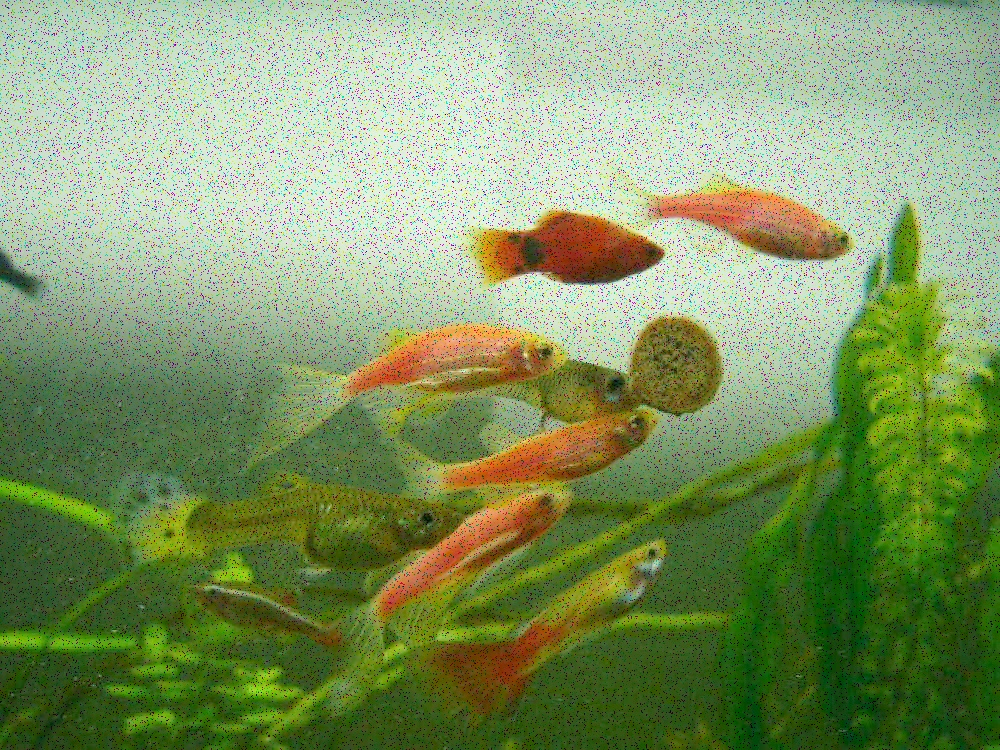fry: (277, 312, 569, 405), (221, 473, 463, 563), (451, 199, 676, 294), (678, 169, 870, 270), (430, 478, 587, 585), (478, 402, 674, 483), (548, 535, 674, 640), (182, 578, 317, 646), (551, 345, 644, 418)
